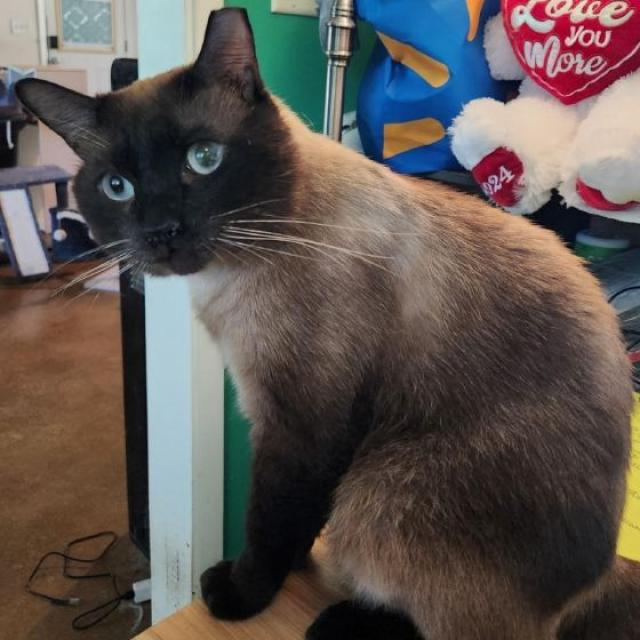siamese_cat: (2, 5, 369, 359)
